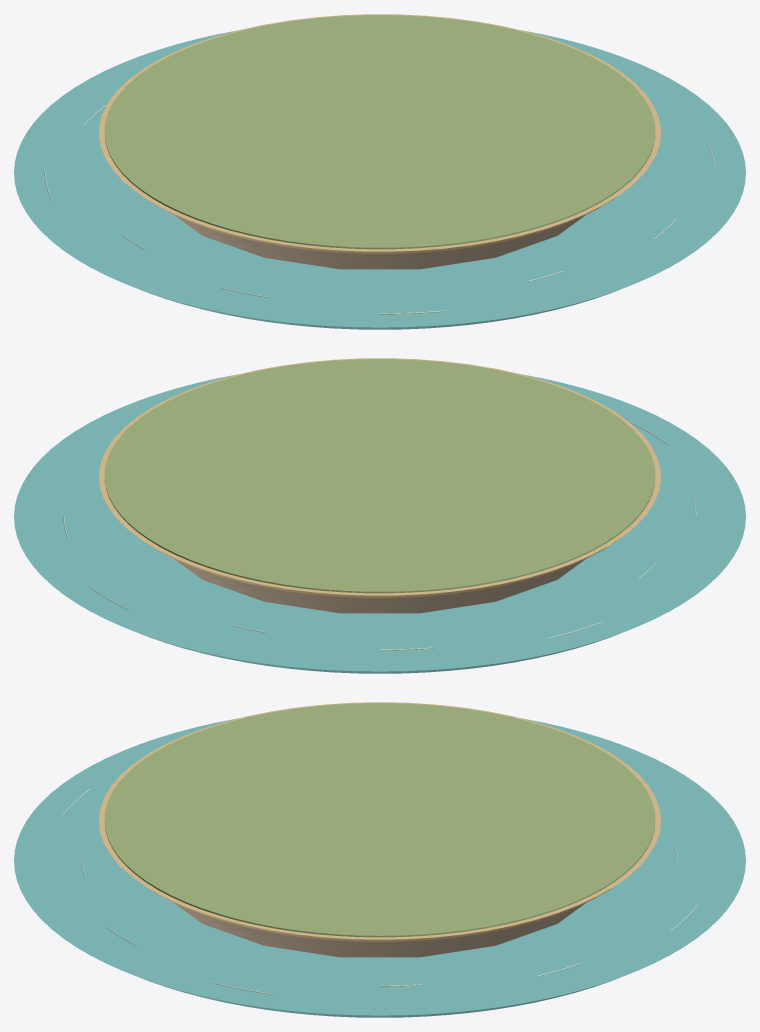
The model's file is island.glb.
3 renders of one model, top to bottom at view 1: azimuth 30°, elevation 25°; view 2: azimuth 150°, elevation 25°; view 3: azimuth 270°, elevation 25°, orthographic.
Parts seen in each view (by area): view 1: surface_meadow_grass, surface_sea_water, surface_#bca991, surface_#e7c994, surface_#c6e4d8; view 2: surface_meadow_grass, surface_sea_water, surface_#bca991, surface_#e7c994, surface_#c6e4d8; view 3: surface_meadow_grass, surface_sea_water, surface_#bca991, surface_#e7c994, surface_#c6e4d8.
Boxes of the visible parts, x1,y1,x2,y2 form: surface_meadow_grass: (104, 15, 655, 249); surface_sea_water: (14, 30, 745, 329); surface_#bca991: (174, 215, 585, 269); surface_#e7c994: (99, 14, 660, 253); surface_#c6e4d8: (44, 105, 715, 314); surface_meadow_grass: (104, 359, 655, 593); surface_sea_water: (14, 374, 745, 673); surface_#bca991: (174, 559, 585, 613); surface_#e7c994: (99, 358, 660, 597); surface_#c6e4d8: (63, 422, 696, 650); surface_meadow_grass: (104, 703, 655, 937); surface_sea_water: (14, 718, 745, 1017); surface_#bca991: (174, 903, 585, 957); surface_#e7c994: (99, 702, 660, 941); surface_#c6e4d8: (62, 789, 697, 994).
Size of the model in its own units: 28.3 by 2.12 by 28.3.
